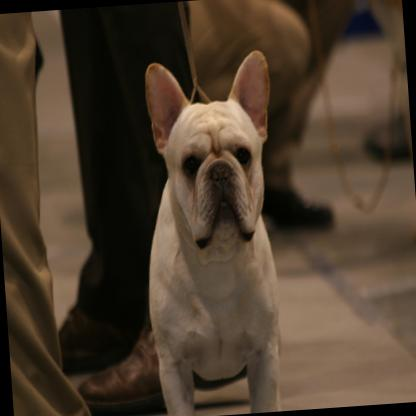French_bulldog: (129, 44, 293, 416)
